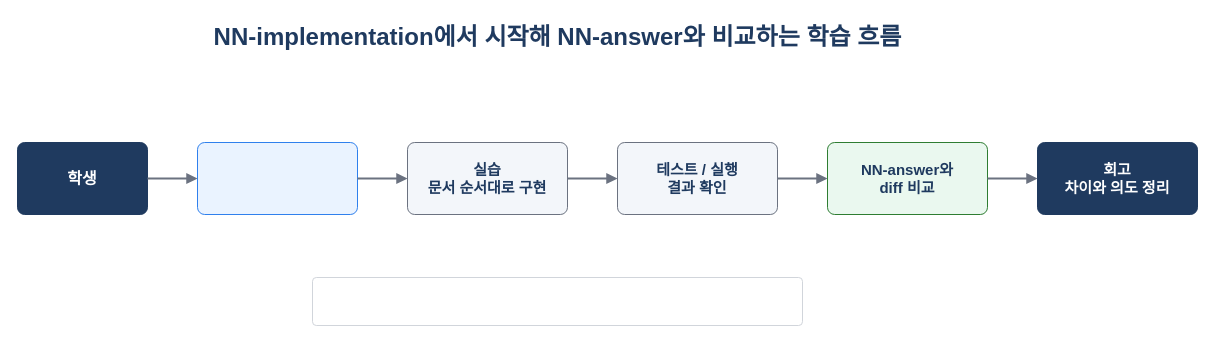
This 1215x343 diagram has some shape labels left out. The shapes that lost their labels are listed below. From the top down, each one's centre as x and y in pixels, then its label:
pixel 277 178: NN-implementation checkout
pixel 557 301: 정답 브랜치는 첫 진입점이 아니라 실습 후 비교 기준입니다.
